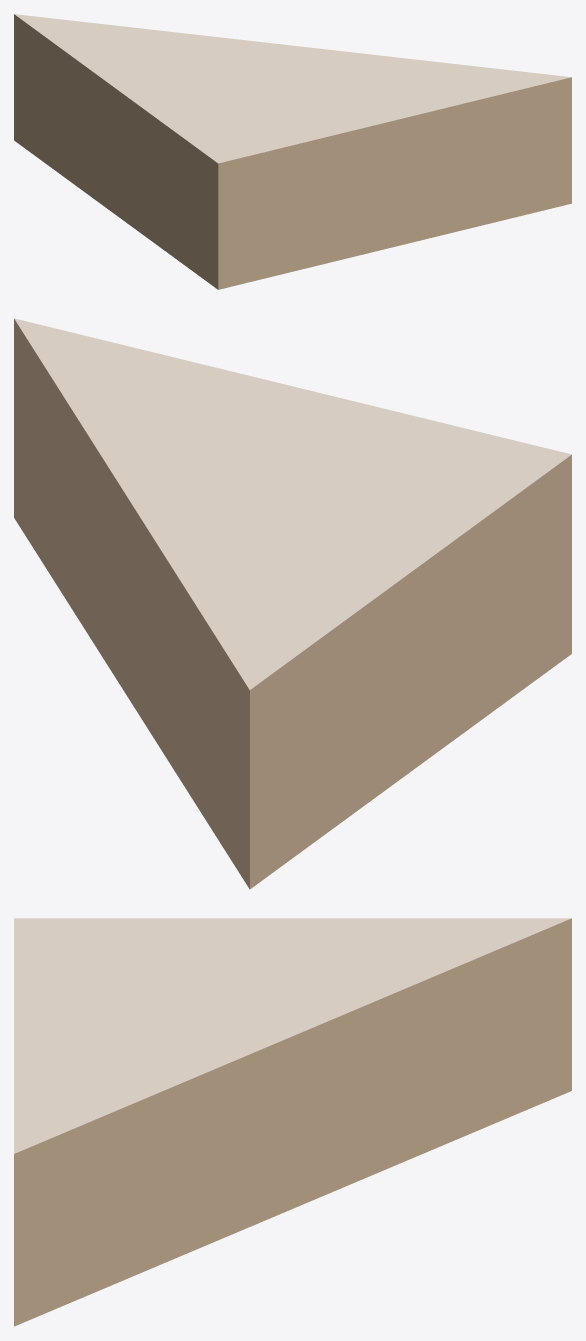
Rendered from Floor_Curved_Small_Outer.fbx.
3 views of the same model, one above another, from view 1: azimuth 30°, elevation 25°; view 2: azimuth 150°, elevation 25°; view 3: azimuth 270°, elevation 25° (orthographic). The views are drawn at different scales.
Visible parts, largest first — view 1: Sandstone_Trim, object1; view 2: Sandstone_Trim, object1; view 3: Sandstone_Trim, object1.
Part boxes in pixels (box(x1,y1,x2,y2)): Sandstone_Trim: box(14, 14, 571, 289); object1: box(14, 14, 570, 163); Sandstone_Trim: box(14, 319, 571, 889); object1: box(14, 318, 571, 689); Sandstone_Trim: box(14, 918, 571, 1326); object1: box(14, 918, 570, 1153).
Size of the model in its own units: 0.5858 by 0.2 by 0.5858.
